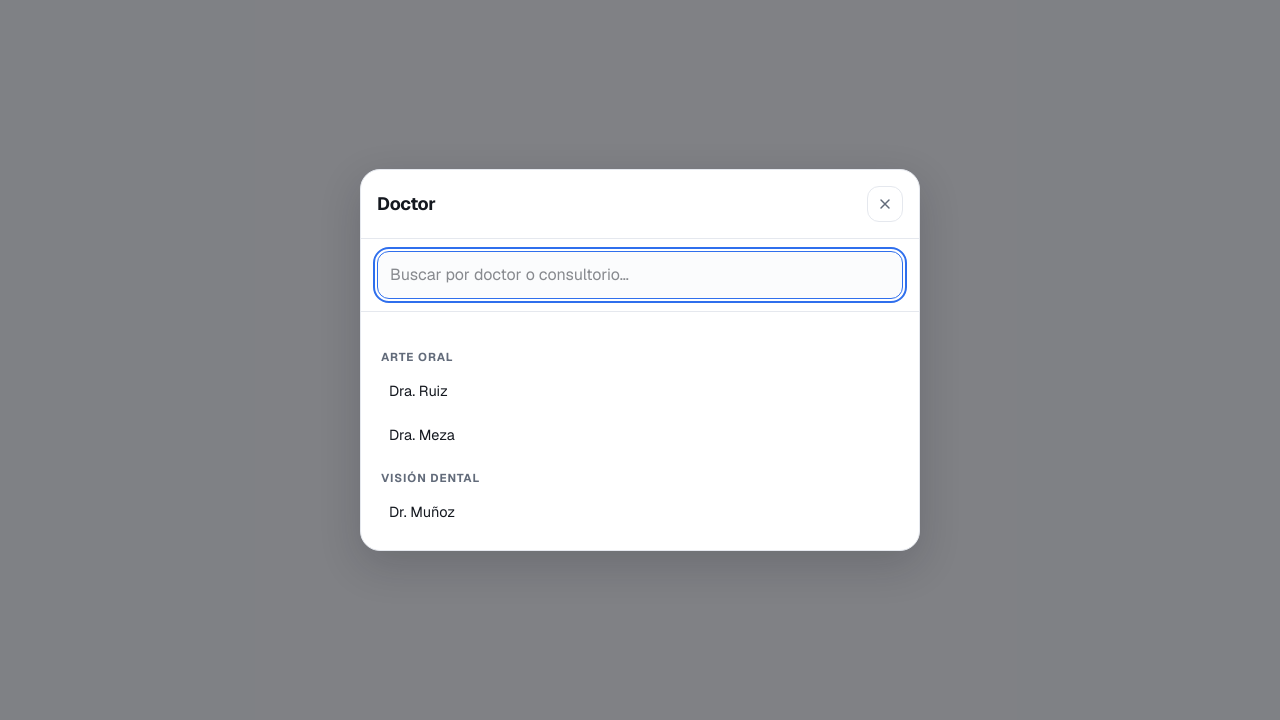
Scenario: DoctorSheet › dice cuándo no hay coincidencias
This screenshot has width=1280, height=720.
Type "zzz" into the field named "buscar doctor" at point(640, 275), box [377,251,903,299]
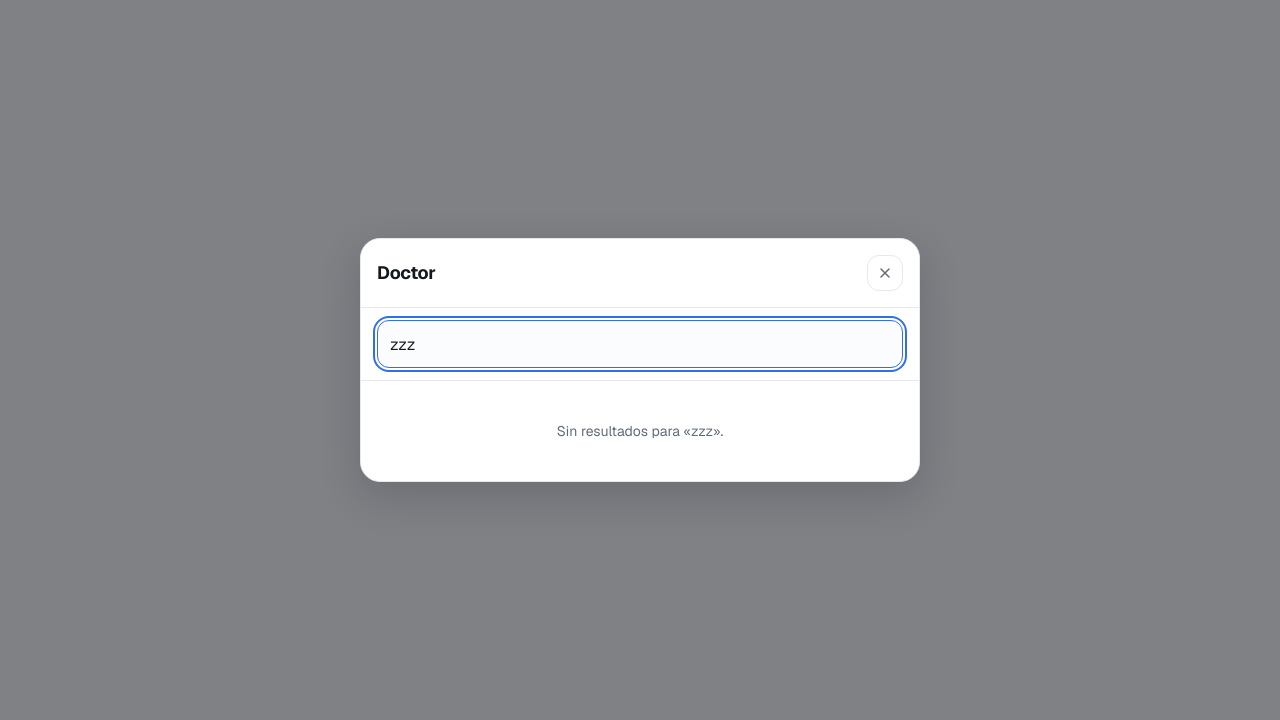
expect the text "Sin resultados para «zzz»." is shown: met, box [557,422,723,440]
